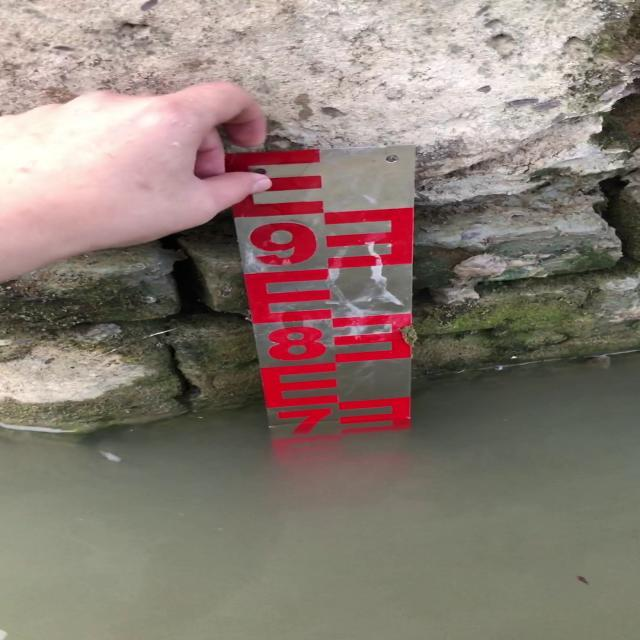ruler: (213, 134, 441, 440)
value: (234, 214, 332, 276), (250, 320, 336, 370)
